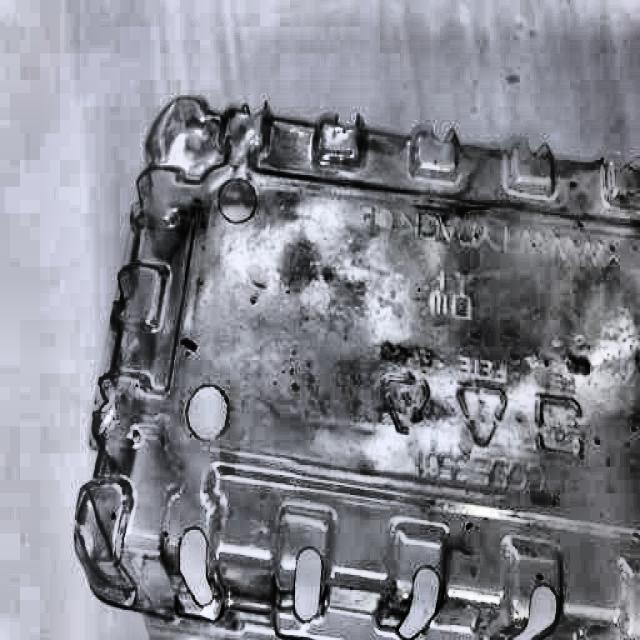plastic: (92, 92, 639, 640)
